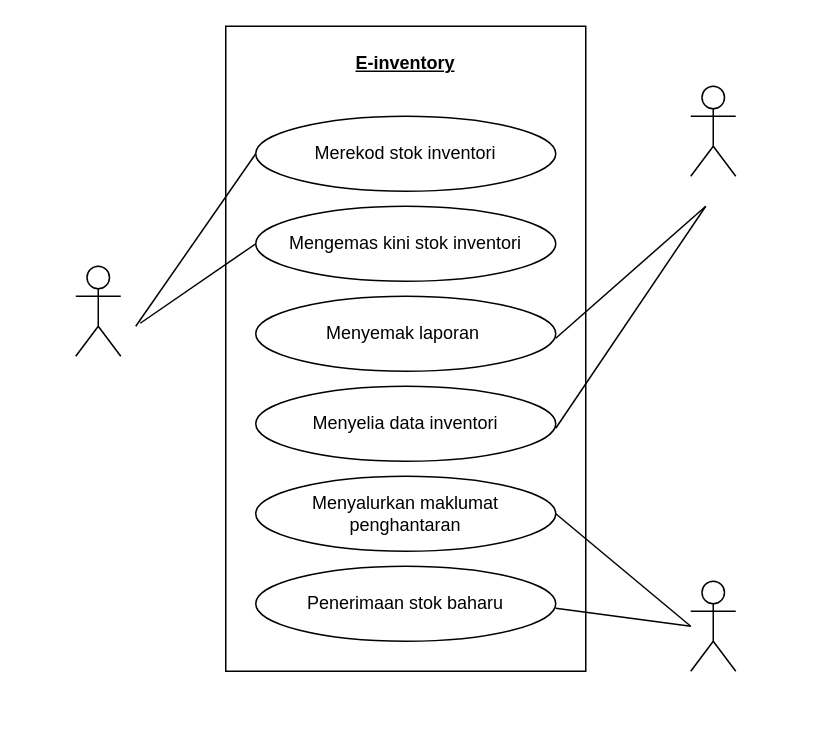
The diagram is 813 pixels wide and 729 high, and some of its shapes have lost their labels. The shapes that lost their labels are listed below. From the top down, each one's box as (x1, y1, x2, y2) in pixels, then its label:
(689, 85, 736, 176): Pentadbir Sekolah
(74, 265, 121, 356): Guru/Staf Makmal
(689, 580, 736, 671): Pembekal
